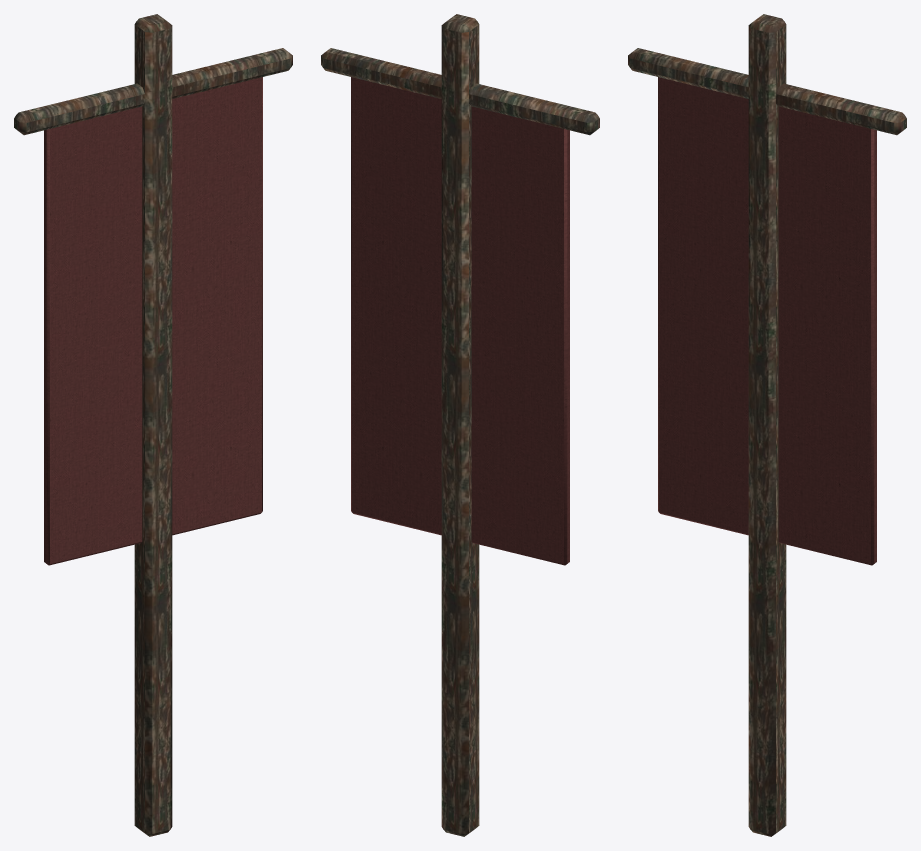
File: prop_banner.glb
3 views of the same model, side by side, from view 1: azimuth 30°, elevation 25°; view 2: azimuth 150°, elevation 25°; view 3: azimuth 330°, elevation 25° (orthographic).
Visible parts, largest first — view 1: PROP_Banner; view 2: PROP_Banner; view 3: PROP_Banner.
Boxes of the visible parts, box(x1,y1,x2,y2) form: PROP_Banner: box(14, 14, 292, 836); PROP_Banner: box(321, 14, 599, 836); PROP_Banner: box(628, 14, 906, 836).
Bounding box in the file's own units: 1.2 × 3.4 × 0.12.
Materials: 2 (2 with a texture image).
